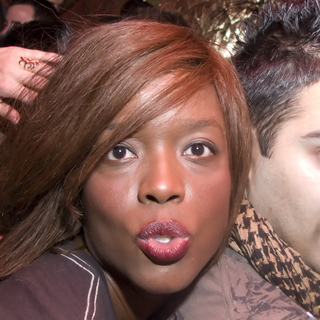eye: (97, 139, 139, 167), (176, 138, 221, 164)
